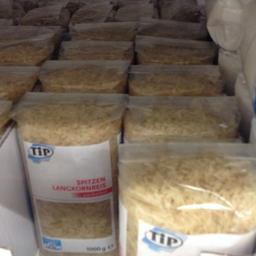rice: (10, 90, 127, 255), (116, 138, 254, 252)
